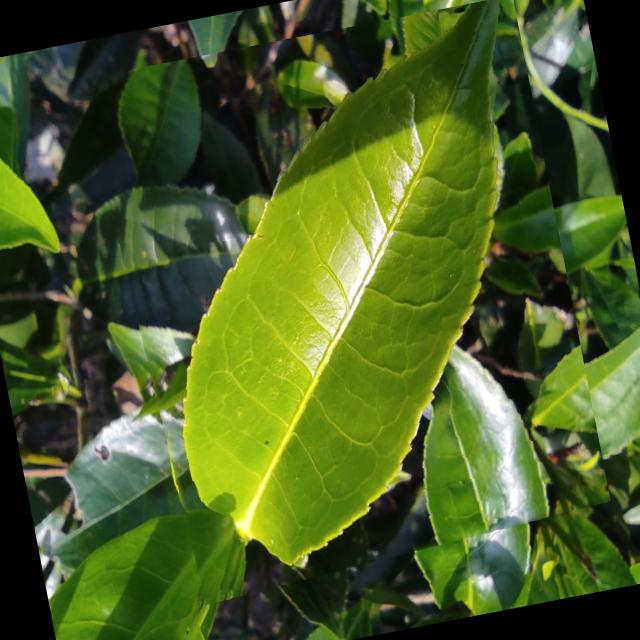Category B(2-4 days): (79, 0, 615, 609)
